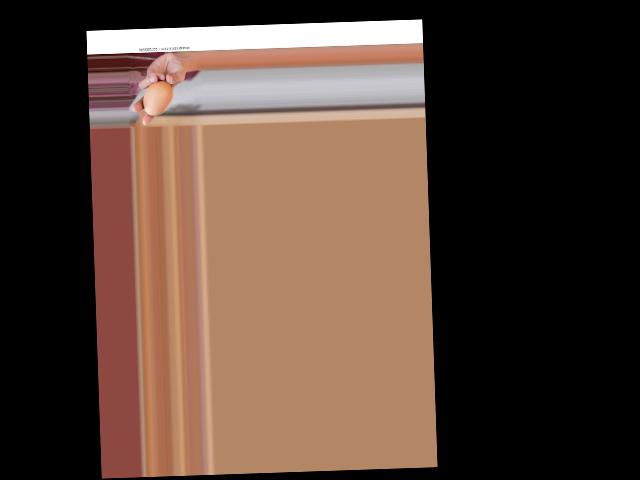egg: (141, 80, 173, 116)
